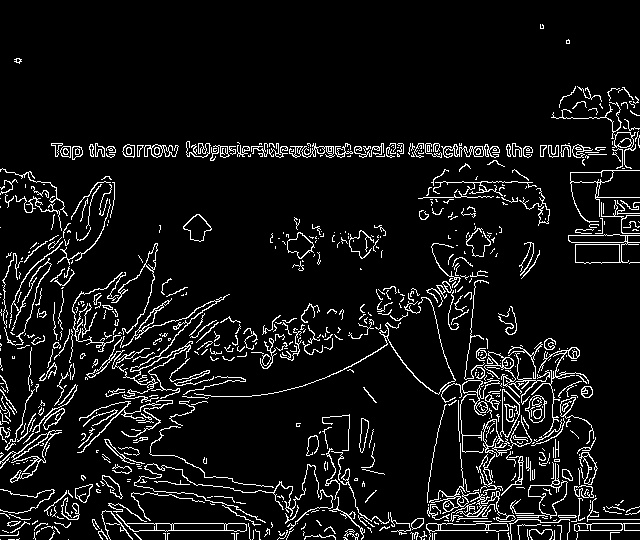right: (276, 226, 319, 263), (342, 225, 380, 263)
up: (177, 209, 219, 248), (459, 224, 496, 261)
